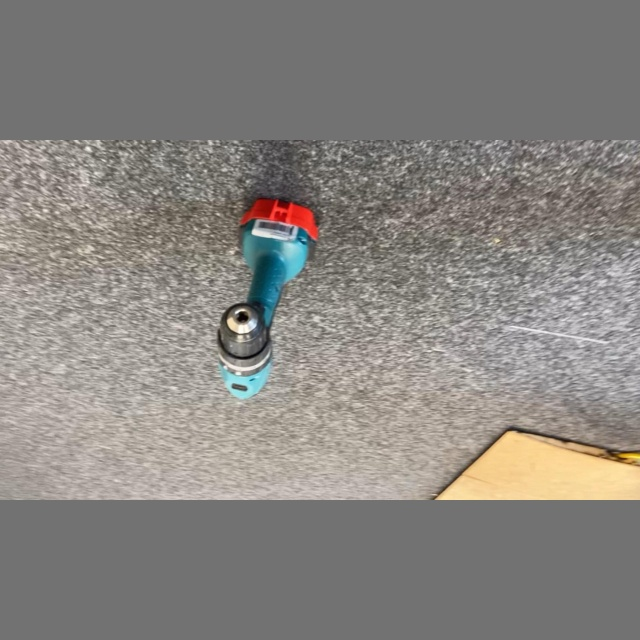drill: (212, 193, 322, 403)
